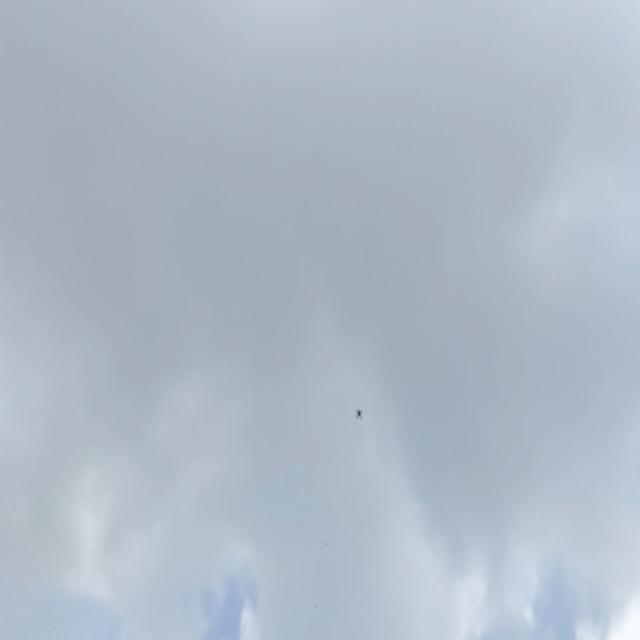drone: (355, 405, 365, 423)
